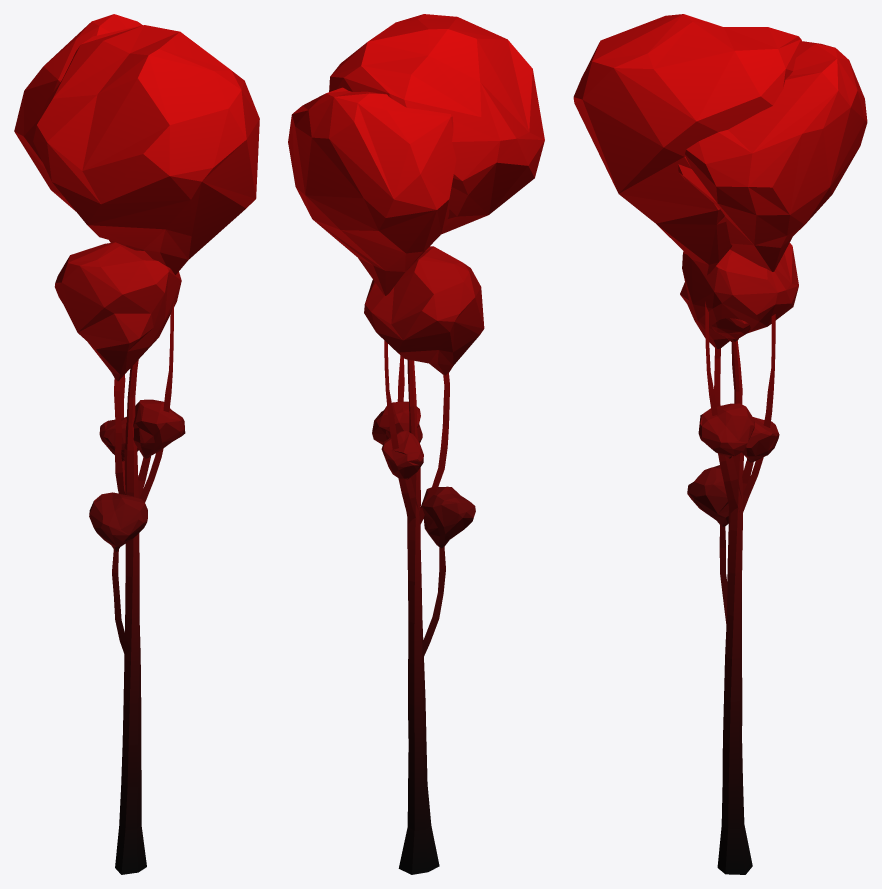
The model's file is TreeBirch09.fbx.
3 views of the same model, side by side, from view 1: azimuth 30°, elevation 25°; view 2: azimuth 150°, elevation 25°; view 3: azimuth 270°, elevation 25° (orthographic). The views are drawn at different scales.
Parts seen in each view (by area): view 1: TreeBirch09_LOD0; view 2: TreeBirch09_LOD0; view 3: TreeBirch09_LOD0.
Boxes of the visible parts, x1,y1,x2,y2 form: TreeBirch09_LOD0: [14, 14, 259, 874]; TreeBirch09_LOD0: [288, 14, 544, 874]; TreeBirch09_LOD0: [573, 14, 867, 874].
Size of what is drawn, in the model's own units: 273 by 1019 by 319.
